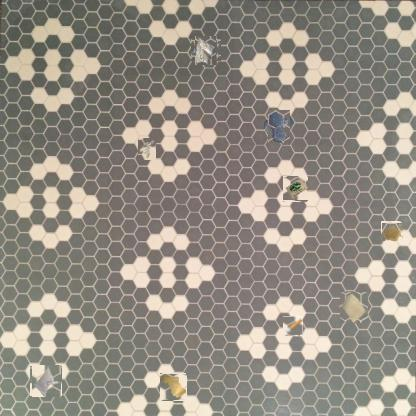dirty: (31, 366, 62, 396), (339, 292, 369, 322), (160, 374, 187, 400), (193, 38, 219, 64), (283, 177, 308, 201), (138, 138, 156, 160), (284, 316, 303, 336)
liquid: (265, 112, 293, 140), (381, 221, 403, 242)
